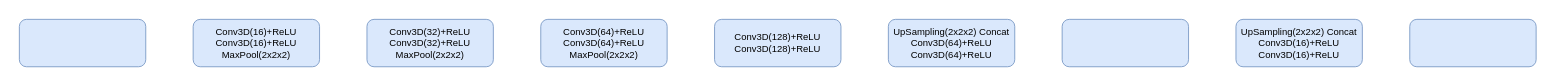
Image size: 1550x81. Some labels were removed from this diagram. The centre of each missing label's shape, as x and y in pixels:
"Conv3D(1) Sigmoid" belongs at point (1472, 43).
"Input Shape: (None,None,None,1)" belongs at point (82, 43).
"UpSampling(2x2x2) Concat Conv3D(32)+ReLU Conv3D(32)+ReLU" belongs at point (1125, 43).
